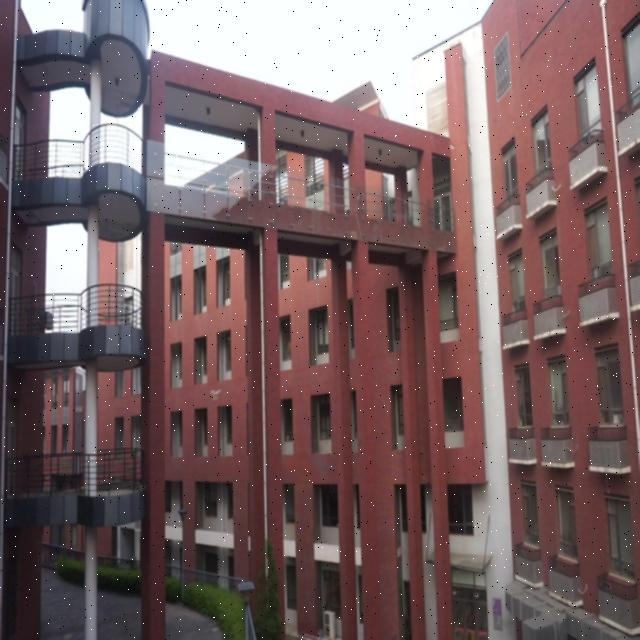UAV: (211, 390, 221, 401)
